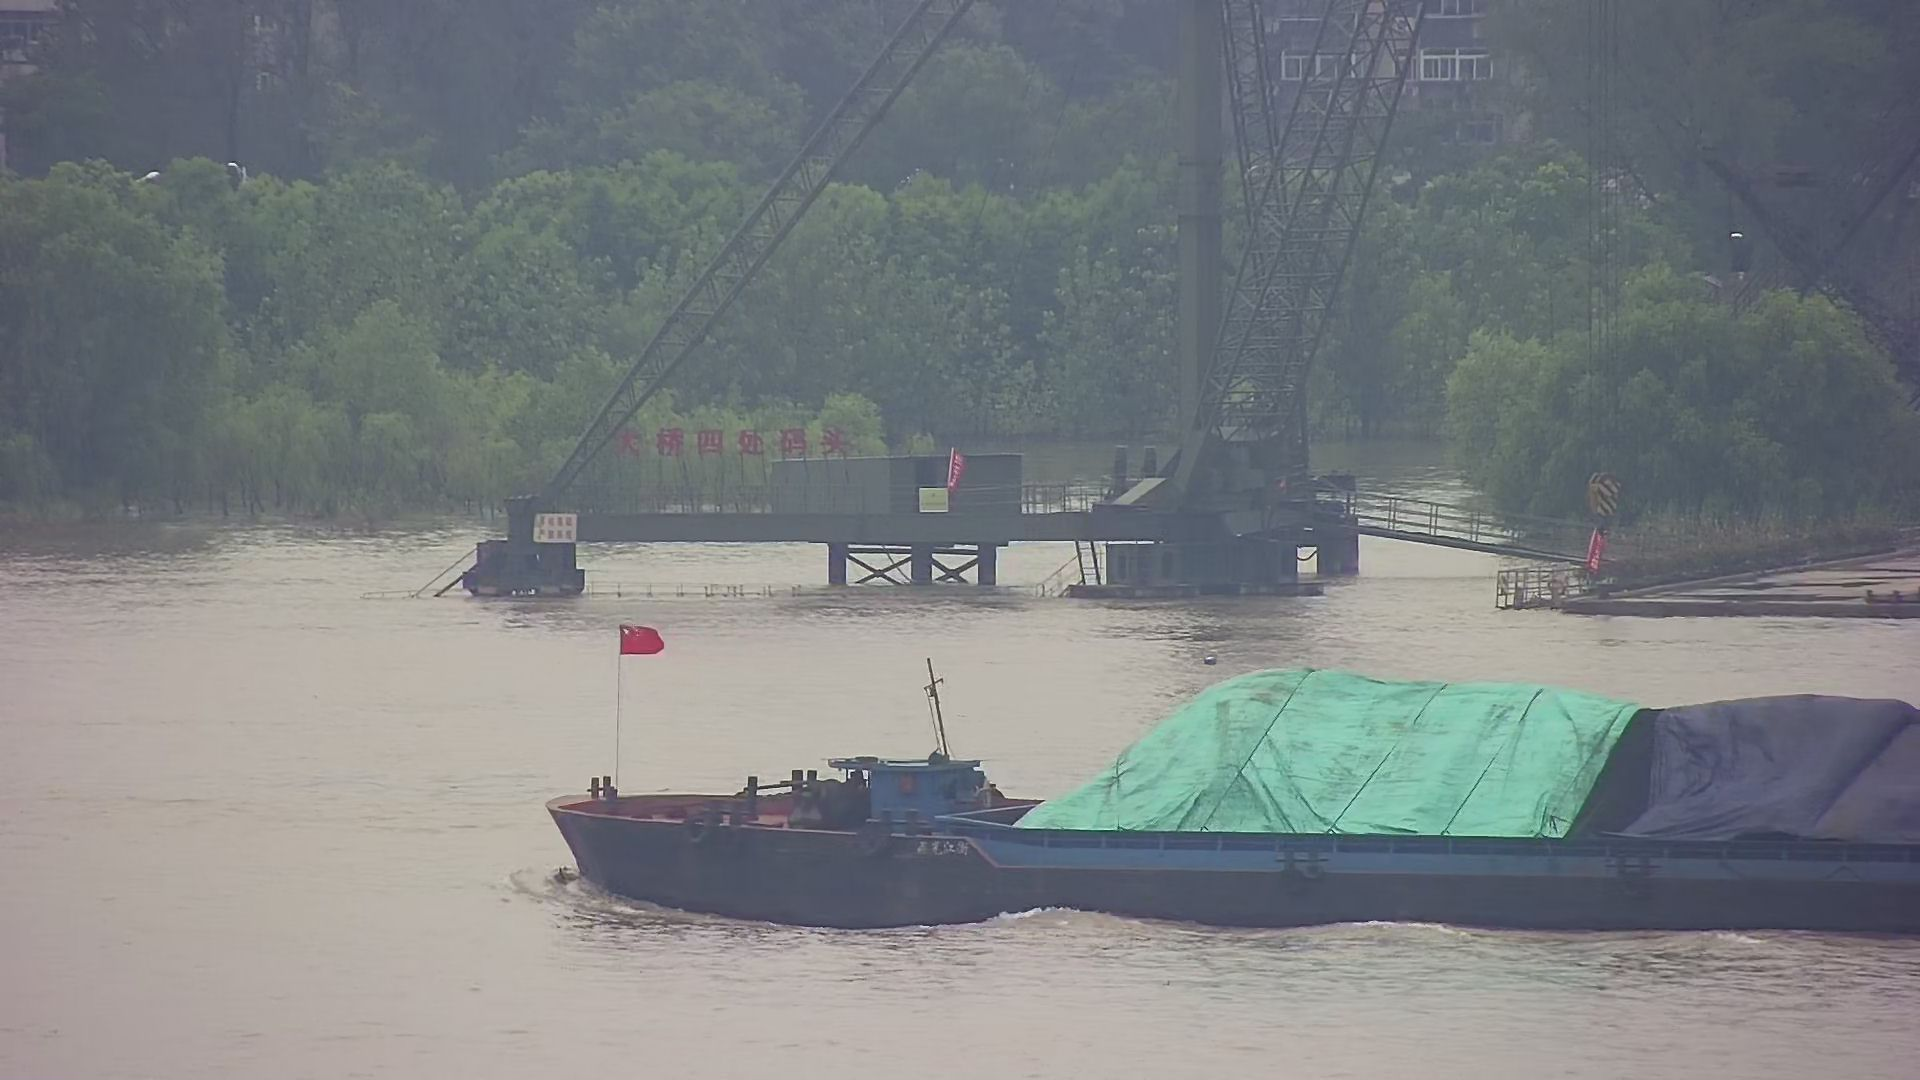platform: (400, 1, 1433, 608)
rubbish: (1199, 645, 1232, 673)
ship: (541, 618, 1920, 938)
